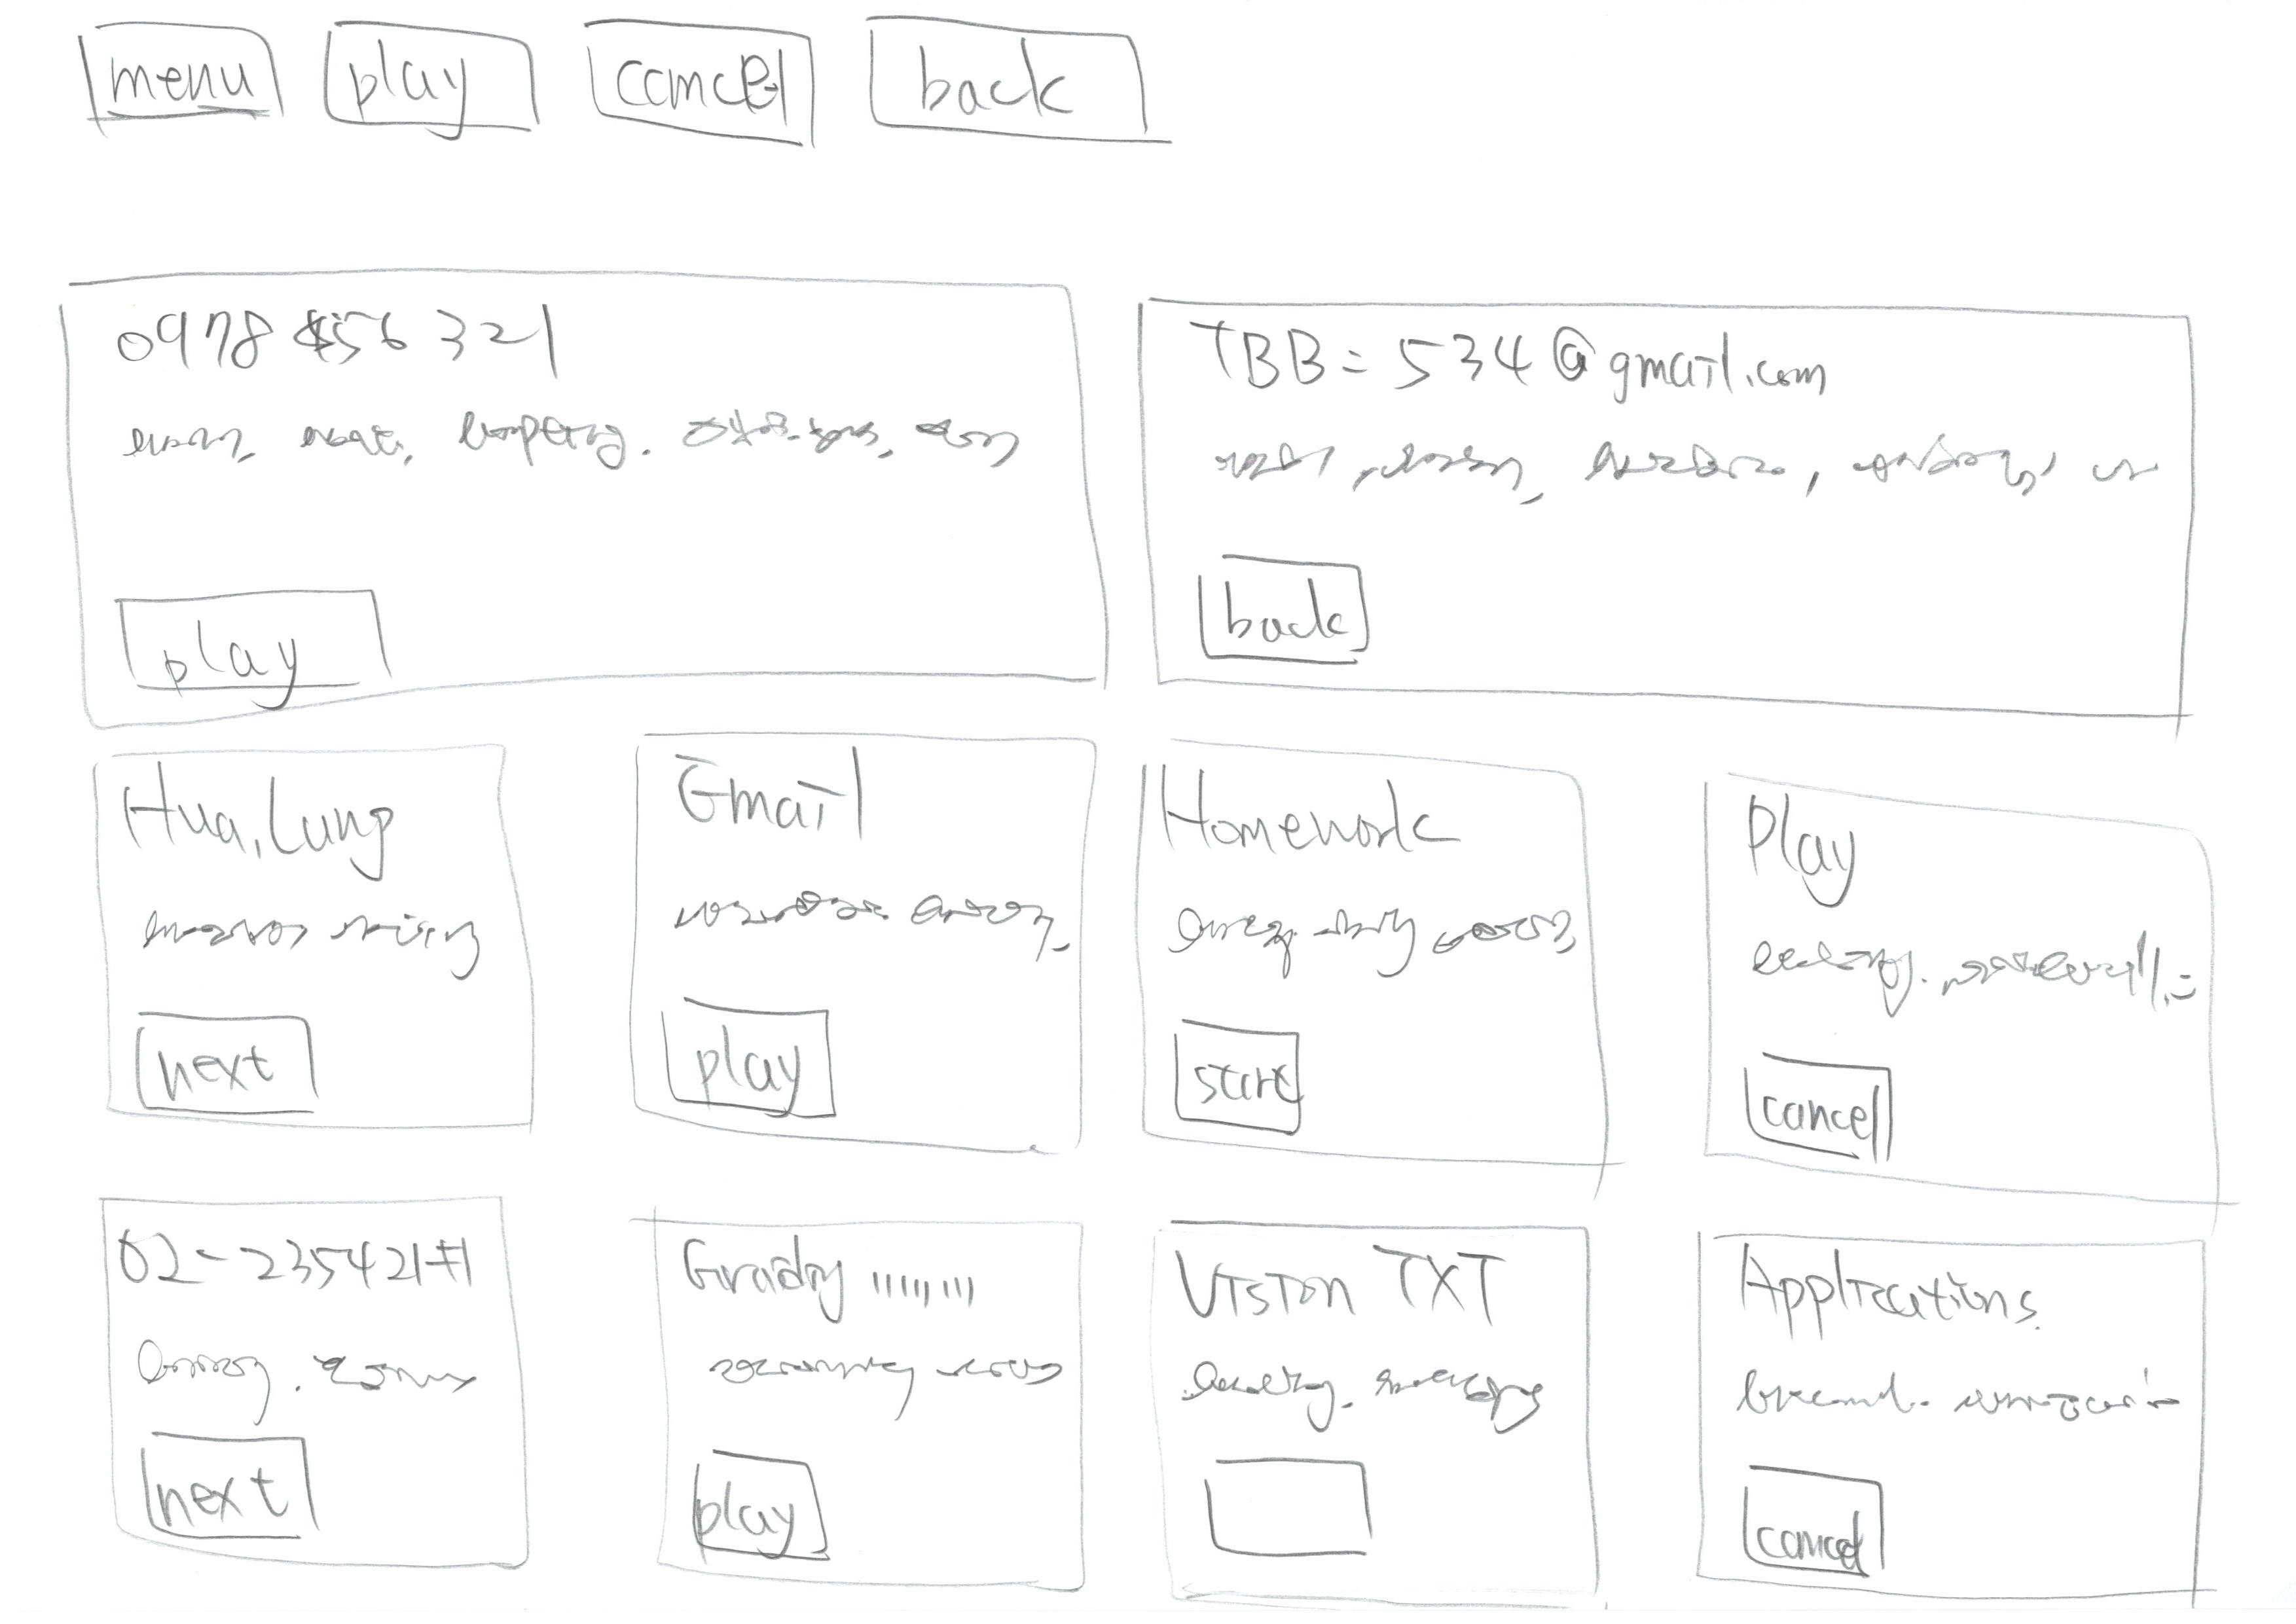back: (858, 0, 1224, 190), (1185, 538, 1422, 692)
btn-active: (1188, 1455, 1401, 1562)
cancel: (563, 7, 825, 179), (1725, 1462, 1922, 1594), (1726, 1039, 1915, 1172)
double: (1123, 239, 2268, 745), (51, 211, 1116, 729)
menu: (51, 2, 302, 165)
next: (116, 993, 346, 1123), (125, 1424, 348, 1541)
play: (97, 552, 445, 708), (304, 7, 566, 183), (635, 984, 858, 1144), (680, 1429, 858, 1578)
quadruple: (1689, 758, 2252, 1227), (1125, 721, 1642, 1202), (1695, 1206, 2280, 1620), (69, 735, 582, 1183), (615, 715, 1099, 1188), (77, 1183, 575, 1601), (619, 1188, 1115, 1606), (1134, 1197, 1630, 1615)
row: (21, 211, 2296, 726), (21, 707, 2296, 1222), (21, 1167, 2296, 1624), (21, 0, 2296, 243)
small-title: (1194, 308, 1842, 413), (1164, 752, 1559, 882), (1166, 1232, 1540, 1343), (1747, 1260, 2136, 1360), (113, 772, 464, 870), (121, 295, 585, 369), (128, 1214, 494, 1304), (675, 1243, 1006, 1325), (682, 758, 904, 838), (1753, 794, 1883, 907)
start: (1146, 1007, 1340, 1155)
text: (1201, 422, 2175, 522), (116, 392, 1028, 482), (659, 858, 1090, 965), (1726, 1352, 2196, 1448), (1758, 928, 2187, 1032), (1169, 886, 1580, 977), (1183, 1343, 1563, 1436), (141, 1327, 501, 1417), (109, 896, 489, 972), (716, 1346, 1030, 1411)
